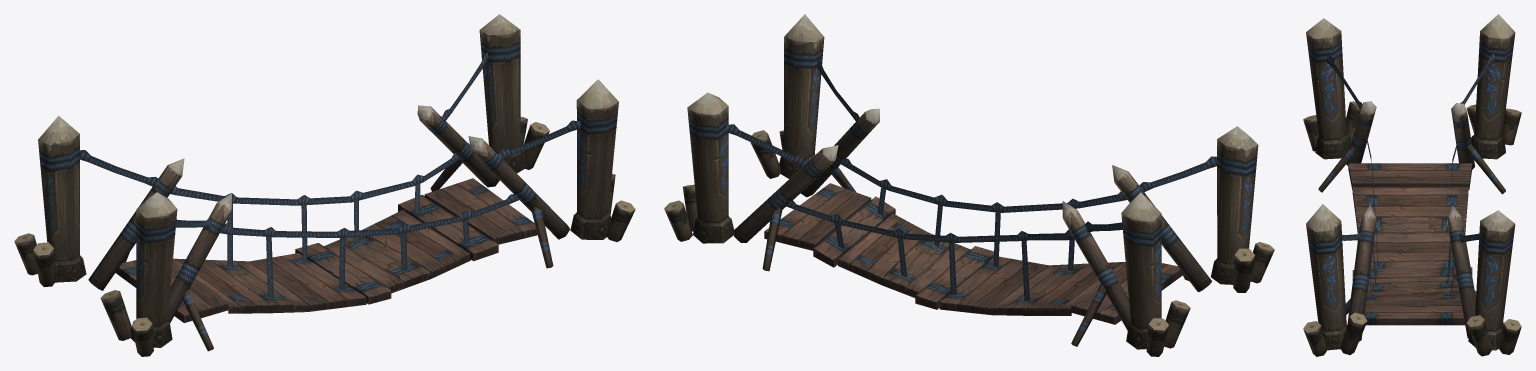
The model's file is diaoqiao.FBX.
The picture shows the model from 3 angles, left to right: view 1: azimuth 30°, elevation 25°; view 2: azimuth 150°, elevation 25°; view 3: azimuth 270°, elevation 25°; orthographic projection. The views are drawn at different scales.
Visible parts, largest first — view 1: diaoqiao; view 2: diaoqiao; view 3: diaoqiao.
Part boxes in pixels (bbox=[...]): diaoqiao: bbox=[14, 14, 635, 356]; diaoqiao: bbox=[664, 14, 1274, 356]; diaoqiao: bbox=[1303, 14, 1521, 356].
Bounding box in the file's own units: 2466 × 864 × 1027.
